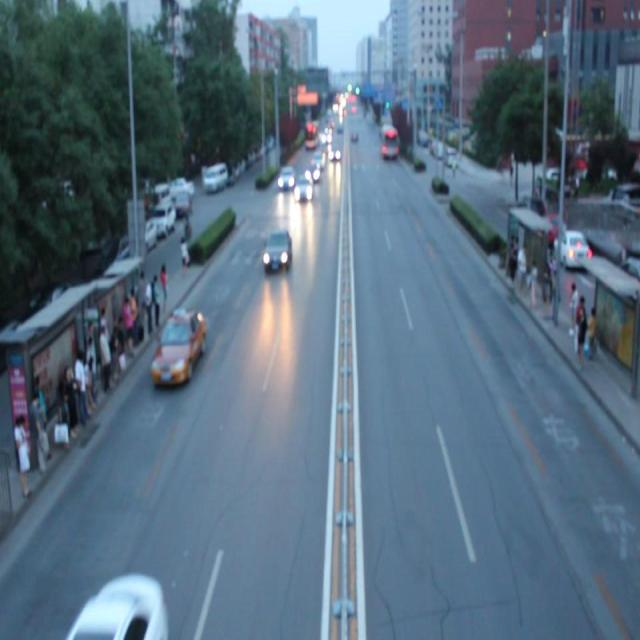car: (69, 571, 169, 640), (151, 305, 204, 385), (262, 228, 291, 275), (294, 175, 312, 201), (277, 168, 295, 192), (303, 163, 320, 183), (326, 146, 342, 164), (310, 152, 324, 172)
